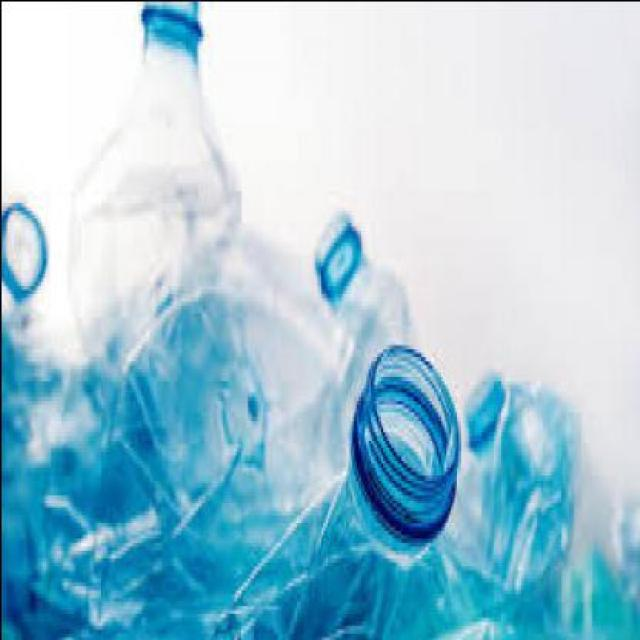PLASTIC: (63, 1, 272, 637), (199, 340, 455, 635), (308, 206, 484, 585), (463, 363, 571, 597), (2, 191, 52, 637), (506, 494, 639, 635), (462, 364, 502, 454)
